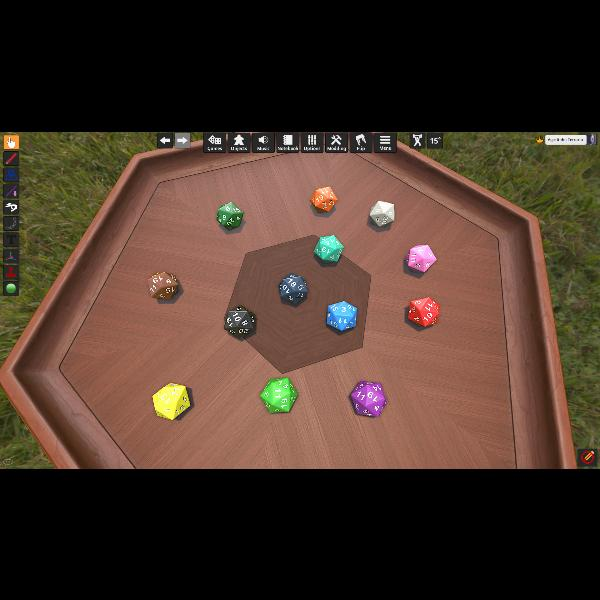d20: (152, 381, 190, 418), (352, 380, 388, 416), (260, 378, 298, 412), (224, 305, 256, 338), (407, 297, 437, 327), (326, 301, 356, 331), (148, 271, 178, 299), (314, 234, 342, 262), (216, 200, 244, 228), (405, 244, 433, 272), (278, 274, 306, 302), (311, 186, 337, 212), (369, 200, 393, 225)
